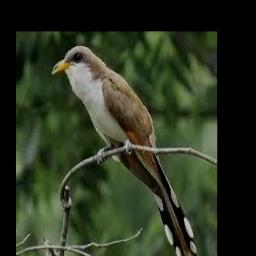Cuckoo: (53, 46, 198, 256)
